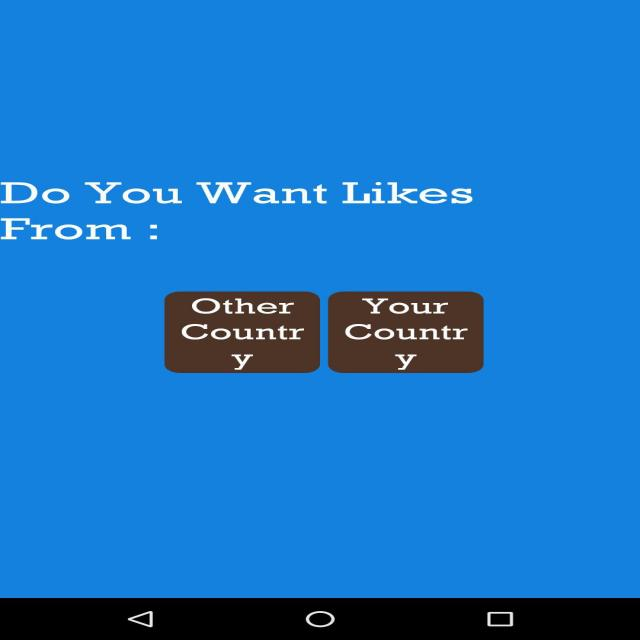button: (144, 283, 327, 385), (330, 284, 513, 385)
text: (0, 173, 520, 249)
